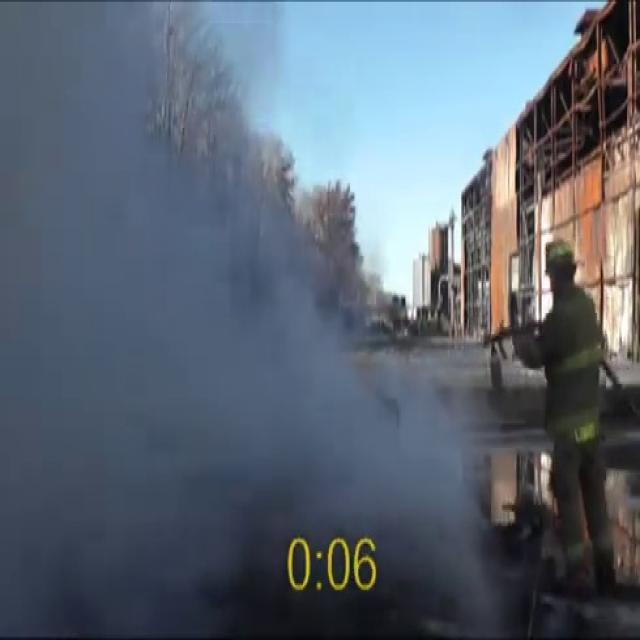Smoke: (1, 14, 504, 619)
